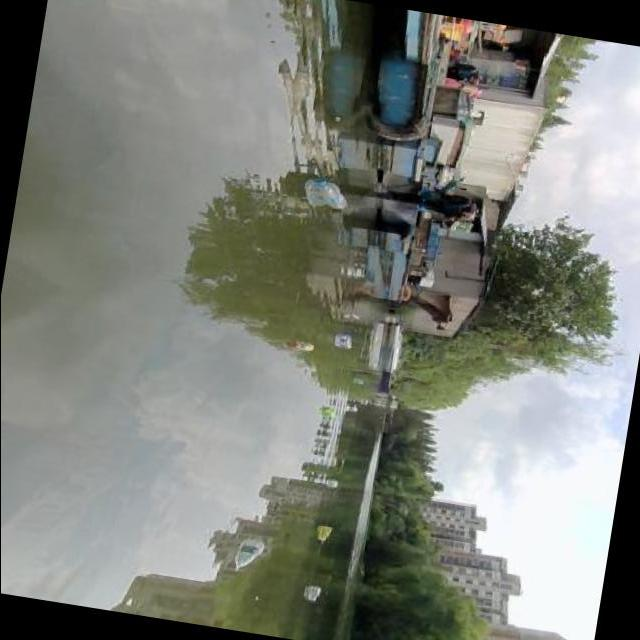Bottle: (217, 529, 273, 577), (311, 175, 349, 212), (314, 400, 336, 426), (288, 336, 316, 354), (334, 332, 354, 354)
